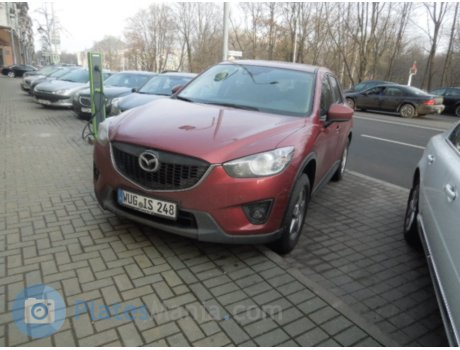License Plates: (118, 185, 175, 214)
